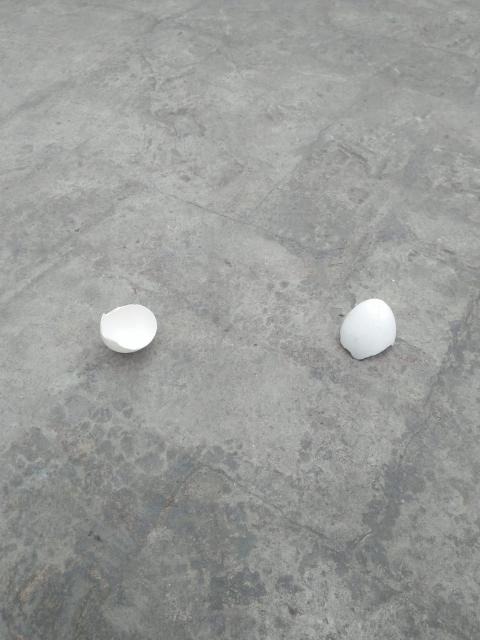Roto: (338, 297, 396, 360), (99, 303, 158, 354)
